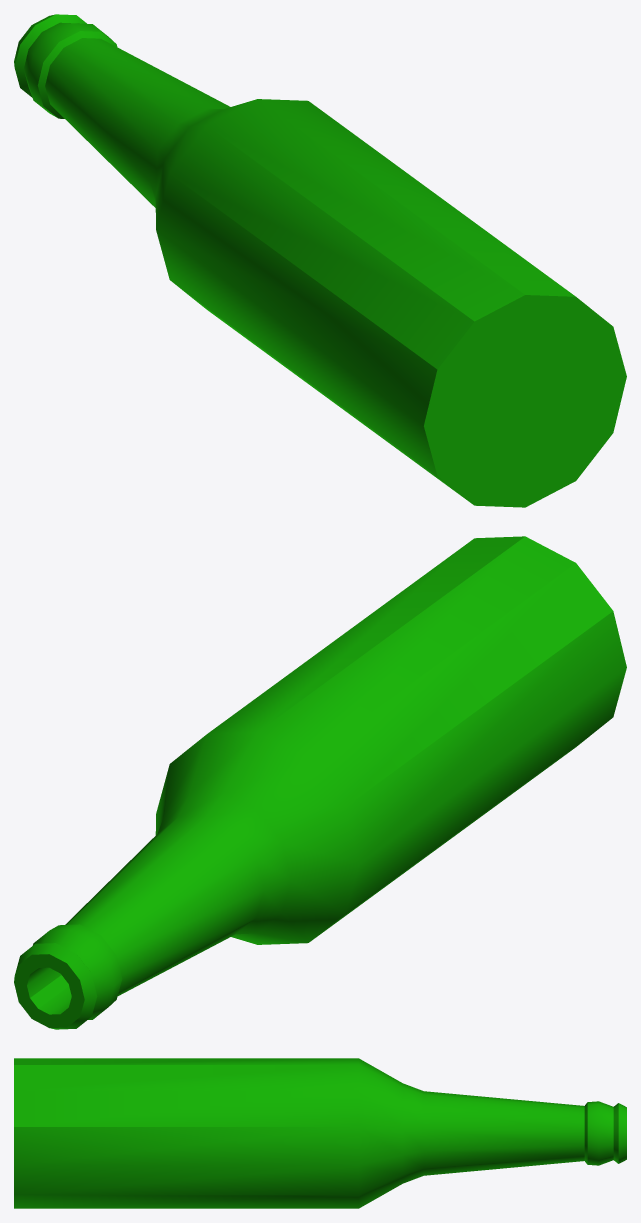
File: butilka (1).fbx
3 renders of one model, top to bottom at view 1: azimuth 30°, elevation 25°; view 2: azimuth 150°, elevation 25°; view 3: azimuth 270°, elevation 25°, orthographic. The views are drawn at different scales.
Visible parts, largest first — view 1: Cylinder; view 2: Cylinder; view 3: Cylinder.
Part boxes in pixels (x1,y1,x2,y2): Cylinder: (14,14,626,507); Cylinder: (14,536,626,1029); Cylinder: (14,1058,626,1208).
Size of the model in its own units: 169 by 169 by 686.
